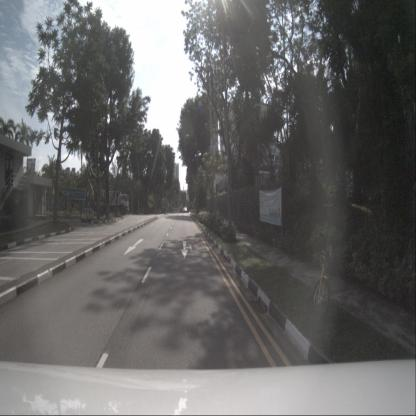vehicle-bicycle: (309, 231, 343, 322)
vehicle-car: (183, 206, 187, 213)
vehicle-truck: (99, 190, 129, 216)
